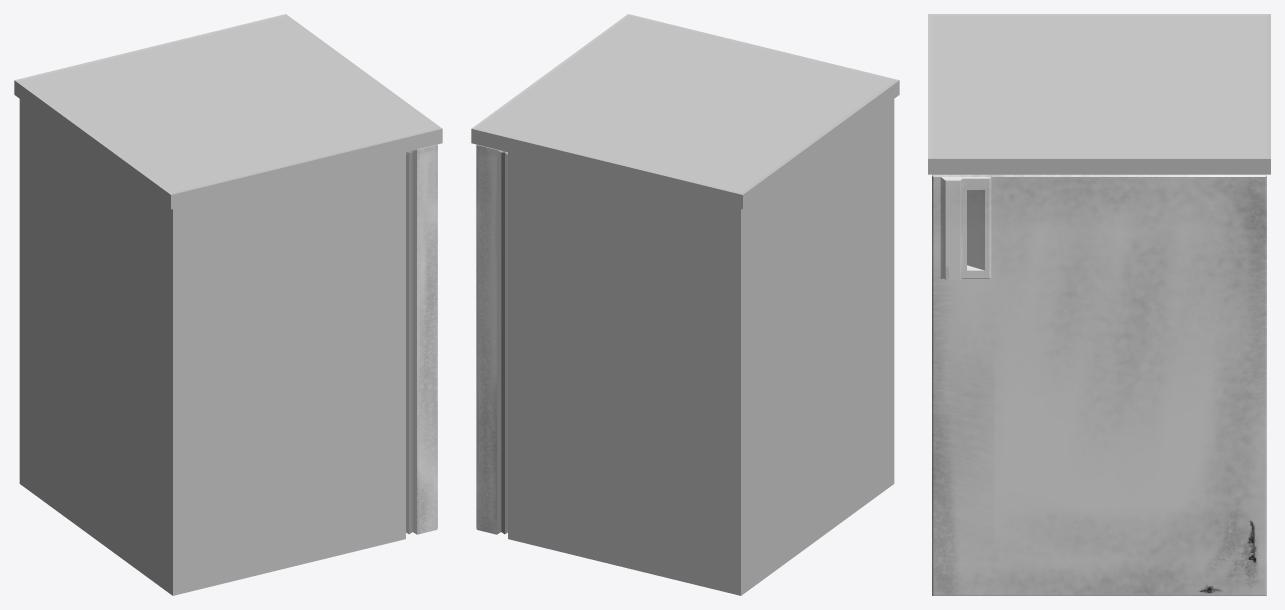
The model's file is KitchenFridge.glb.
3 renders of one model, left to right at view 1: azimuth 30°, elevation 25°; view 2: azimuth 150°, elevation 25°; view 3: azimuth 270°, elevation 25°, orthographic. The views are drawn at different scales.
Visible parts, largest first — view 1: Body, Door; view 2: Body, Door; view 3: Door, Body.
Part boxes in pixels (x1,y1,x2,y2): Body: (14, 14, 442, 595); Door: (406, 144, 437, 534); Body: (471, 14, 899, 595); Door: (476, 144, 507, 534); Door: (932, 174, 1266, 595); Body: (928, 14, 1270, 174).
Bounding box in the file's own units: 2.72 × 3.81 × 2.69.
Materials: 3 (1 with a texture image).
